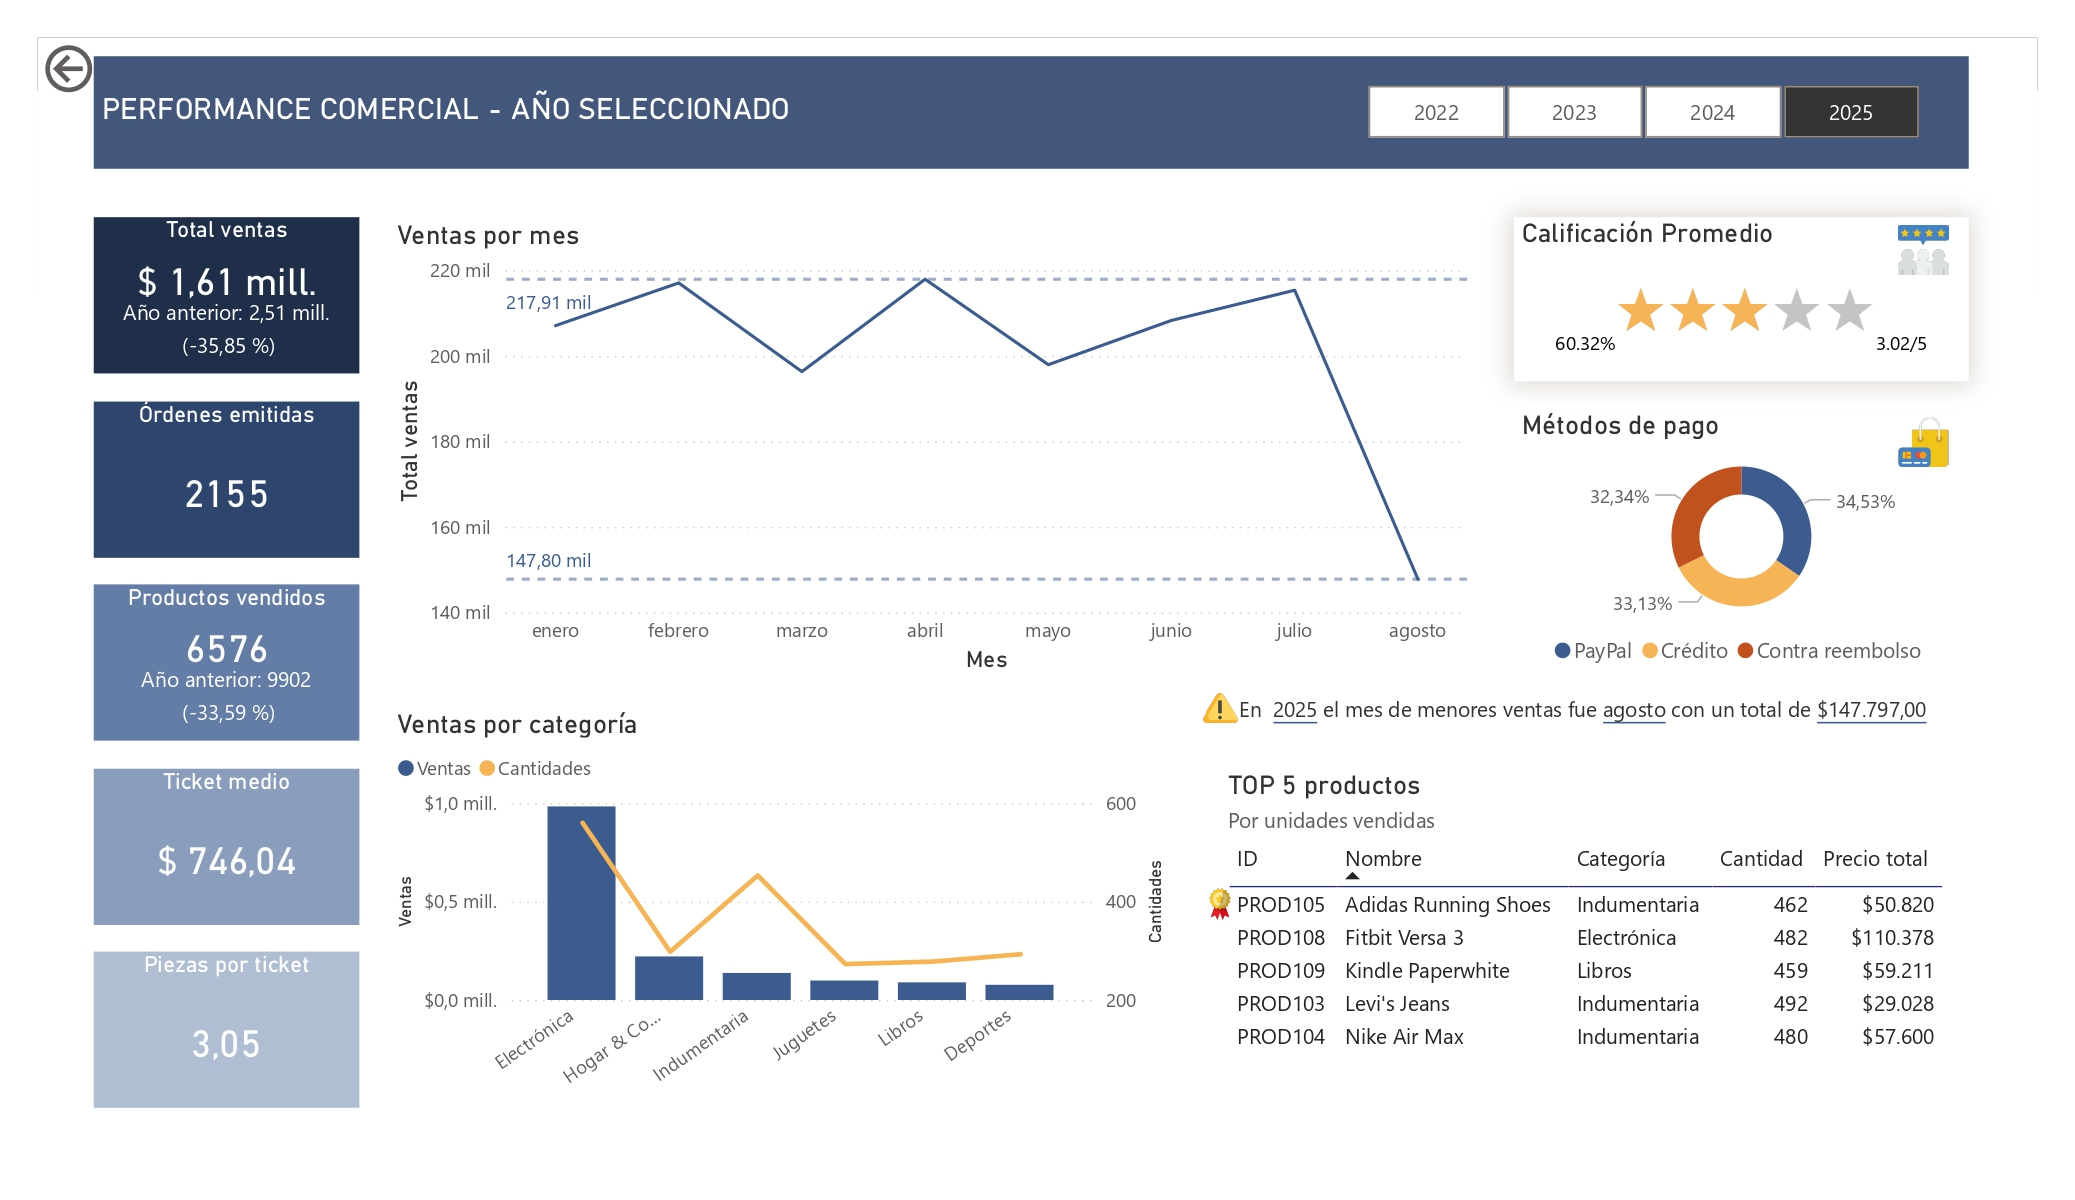

The page's visual inventory and layout, read from the dashboard file:
{"tool":"powerbi","page":{"name":"Página 1","canvas":[1280,720],"ordinal":0},"visuals":[{"type":"textbox","box":[36,11.7,1200,72],"z":0},{"type":"lineClusteredColumnComboChart","title":"Ventas por categoría","fields":{"Category":["orders.category"],"Y":["Sum(orders.total_price)"],"Y2":["CountNonNull(orders.category)"]},"box":[225,429,501,256],"z":1000},{"type":"lineChart","title":"Ventas por mes","fields":{"Category":["orders.order_date.Variación.Jerarquía de fechas.Mes"],"Y":["Medidas.Total ventas"]},"box":[224.8,115.5,694.9,295.5],"z":2000},{"type":"donutChart","title":"Métodos de pago","fields":{"Category":["orders.payment_method"],"Y":["Sum(orders.total_price)"]},"box":[945.4,238.3,290.8,173.1],"z":3000},{"type":"slicer","fields":{"Values":["orders.order_date.Variación.Jerarquía de fechas.Año"]},"box":[826,24,402,47],"z":4000},{"type":"tableEx","title":"TOP 5 productos","fields":{"Values":["orders.product_id","orders.product_name","Sum(orders.quantity)","Sum(orders.total_price)"]},"box":[756.7,467.8,479.5,216.9],"z":5000},{"type":"actionButton","box":[0,0,100,40],"z":6000},{"type":"ratingsvisual001","title":"Calificación Promedio","fields":{"measure":["Avg(orders.rating)"]},"box":[945.4,114.8,290.8,105],"z":7000},{"type":"image","box":[739,538,35,33],"z":8000},{"type":"kpi","title":"Total ventas ","fields":{"Indicator":["Medidas.Total ventas"],"Goal":["Medidas.Ventas Año Anterior"],"TrendLine":["orders.order_date.Variación.Jerarquía de fechas.Año"]},"box":[36,115,170,100],"z":9000},{"type":"kpi","title":"Productos vendidos","fields":{"TrendLine":["orders.order_date.Variación.Jerarquía de fechas.Año"],"Indicator":["Medidas.Productos vendidos"],"Goal":["Medidas.Productos vendidos año anterior"]},"box":[36,350,170,100],"z":10000},{"type":"card","title":"Órdenes emitidas","fields":{"Values":["Count(orders.order_id)"]},"box":[36,232.5,170,100],"z":11000},{"type":"card","title":"Ticket medio","fields":{"Values":["Medidas.average sales"]},"box":[36,467.5,170,100],"z":12000},{"type":"card","title":"Piezas por ticket","fields":{"Values":["Medidas.Pieces Per Ticket"]},"box":[36,585,170,100],"z":13000},{"type":"image","box":[1186,115.3,42,42],"z":14000},{"type":"image","box":[1186.2,237.7,42.3,42.3],"z":15000},{"type":"textbox","box":[763.9,416.4,455.8,51],"z":16000},{"type":"image","box":[738.8,411.9,34.9,34],"z":17000}]}

Visuals, with their boxes on the page's 1280x720 design canvas (x1, y1, x2, y2). These are canvas units, not pixel positions in the 2075x1200 screenshot, which may show the page scaled, cropped or inside an application window:
textbox: bbox=[36, 12, 1236, 84]
"Ventas por categoría" lineClusteredColumnComboChart: bbox=[225, 429, 726, 685]
"Ventas por mes" lineChart: bbox=[225, 116, 920, 411]
"Métodos de pago" donutChart: bbox=[945, 238, 1236, 411]
slicer - orders.order_date.Variación.Jerarquía de fechas.Año: bbox=[826, 24, 1228, 71]
"TOP 5 productos" tableEx: bbox=[757, 468, 1236, 685]
actionButton: bbox=[0, 0, 100, 40]
"Calificación Promedio" ratingsvisual001: bbox=[945, 115, 1236, 220]
image: bbox=[739, 538, 774, 571]
"Total ventas " kpi: bbox=[36, 115, 206, 215]
"Productos vendidos" kpi: bbox=[36, 350, 206, 450]
"Órdenes emitidas" card: bbox=[36, 232, 206, 332]
"Ticket medio" card: bbox=[36, 468, 206, 568]
"Piezas por ticket" card: bbox=[36, 585, 206, 685]
image: bbox=[1186, 115, 1228, 157]
image: bbox=[1186, 238, 1228, 280]
textbox: bbox=[764, 416, 1220, 467]
image: bbox=[739, 412, 774, 446]
